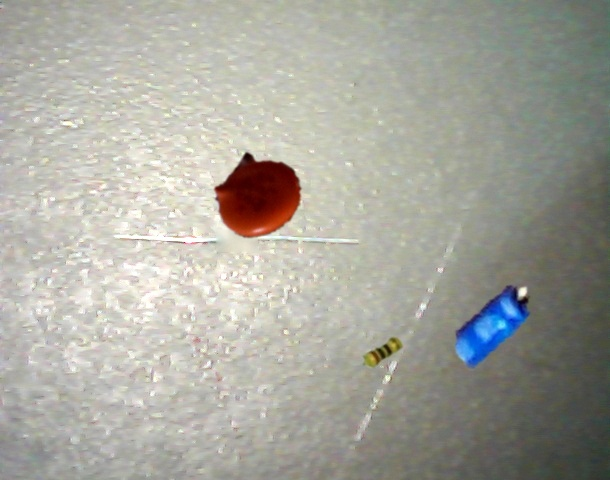capacitor: (214, 152, 301, 238), (455, 285, 530, 369)
resistor: (363, 337, 403, 368)
